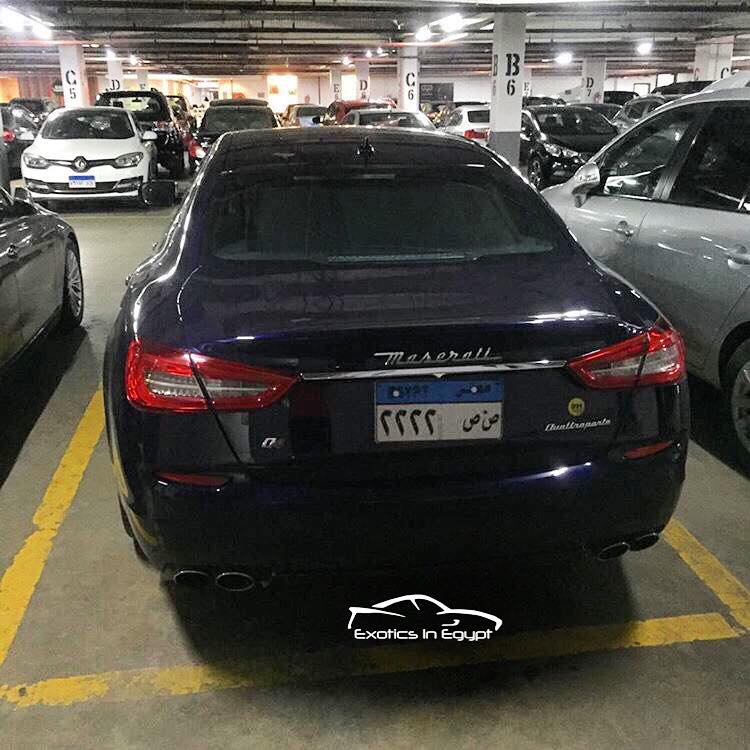carpl: (376, 382, 507, 442)
